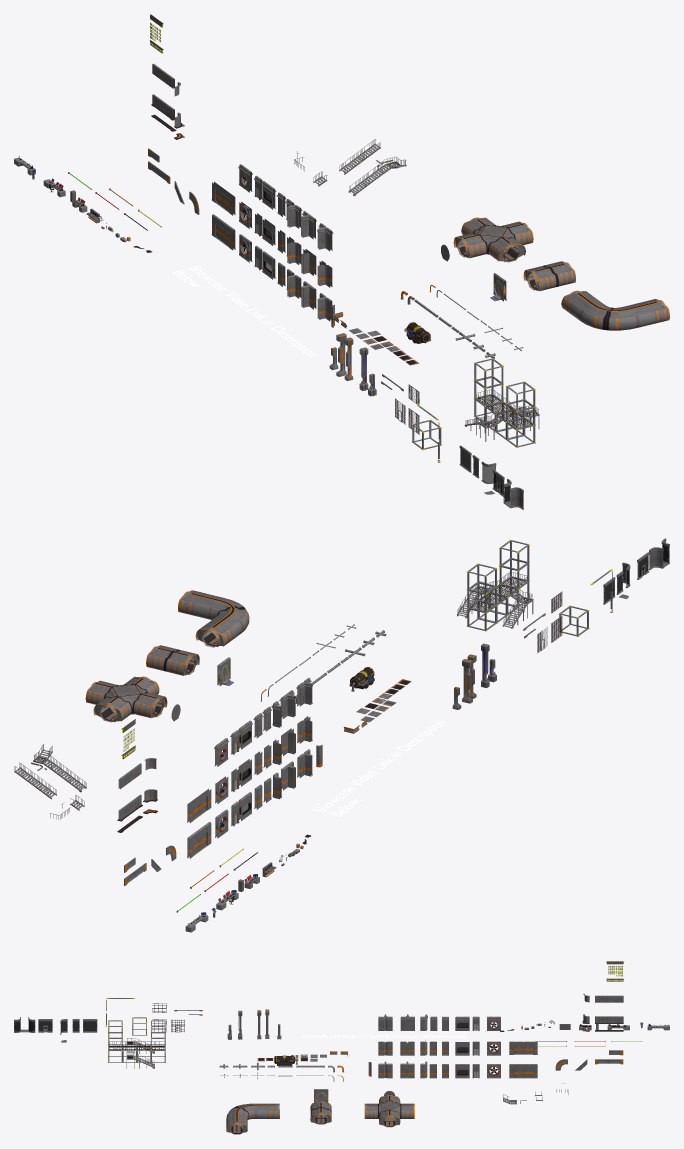
3 views of the same model, one above another, from view 1: azimuth 30°, elevation 25°; view 2: azimuth 150°, elevation 25°; view 3: azimuth 270°, elevation 25° (orthographic). The views are drawn at different scales.
Visible parts, largest first — view 1: Cube.701, Circle.021, Circle.022, Circle.018, Text; view 2: Cube.701, Circle.022, Circle.021, Circle.018, Text, Cube.014; view 3: Cube.701, Circle.022, Circle.021, Circle.018, Text.
Boxes of the visible parts, x1=… form: Cube.701: x1=464, y1=358, x2=539, y2=447; Circle.021: x1=561, y1=290, x2=669, y2=330; Circle.022: x1=453, y1=217, x2=533, y2=262; Circle.018: x1=523, y1=261, x2=575, y2=291; Text: x1=172, y1=266, x2=315, y2=356; Cube.701: x1=457, y1=539, x2=533, y2=631; Circle.022: x1=85, y1=676, x2=167, y2=722; Circle.021: x1=178, y1=590, x2=249, y2=647; Circle.018: x1=146, y1=645, x2=199, y2=675; Text: x1=313, y1=721, x2=446, y2=816; Cube.014: x1=33, y1=744, x2=86, y2=792; Cube.701: x1=108, y1=1020, x2=165, y2=1068; Circle.022: x1=364, y1=1095, x2=414, y2=1127; Circle.021: x1=226, y1=1103, x2=279, y2=1134; Circle.018: x1=310, y1=1101, x2=331, y2=1124; Text: x1=302, y1=1030, x2=465, y2=1038.
Bounding box in the file's own units: 71.75 × 36.05 × 184.
Materials: 3 (1 with a texture image).
